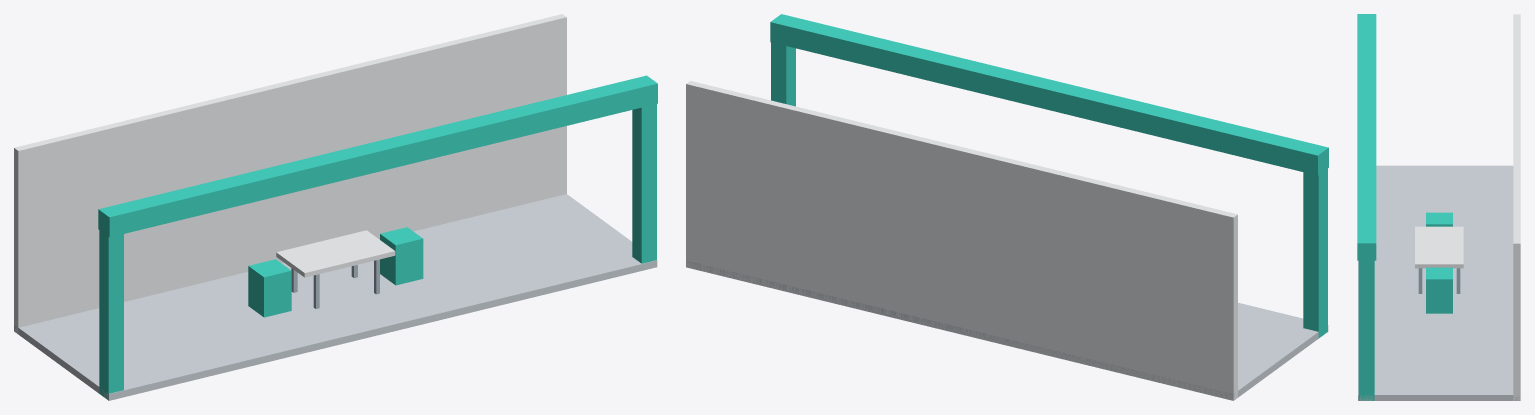
3 views of the same model, side by side, from view 1: azimuth 30°, elevation 25°; view 2: azimuth 150°, elevation 25°; view 3: azimuth 270°, elevation 25° (orthographic). The views are drawn at different scales.
Visible parts, largest first — view 1: Exhibition Booth Concept; view 2: Exhibition Booth Concept; view 3: Exhibition Booth Concept.
Part boxes in pixels (x1,y1,x2,y2): Exhibition Booth Concept: (14,14,657,400); Exhibition Booth Concept: (686,14,1328,400); Exhibition Booth Concept: (1357,14,1520,400).
Size of the model in its own units: 10 by 3.2 by 3.01.
